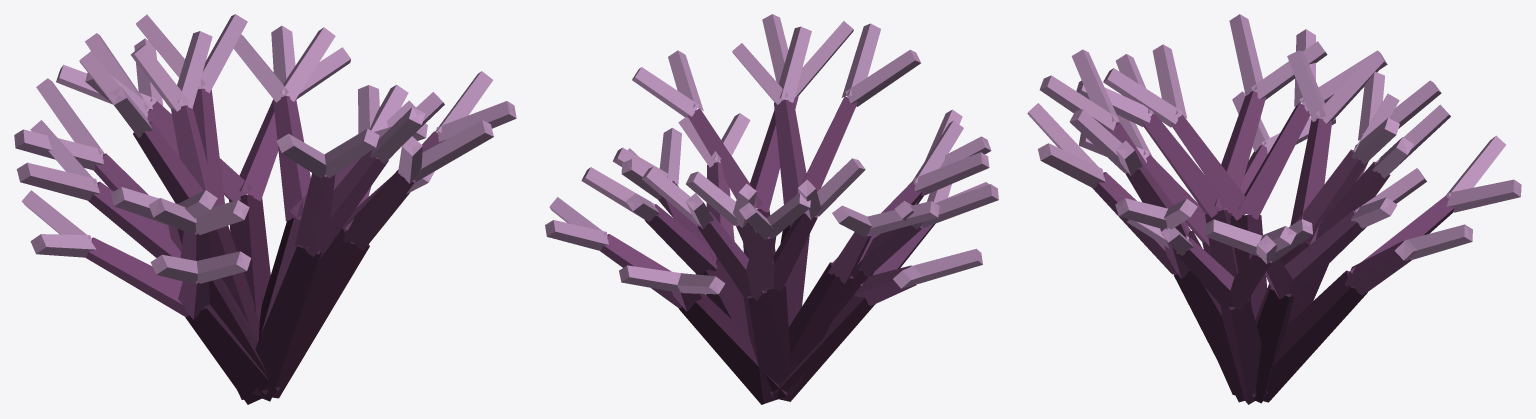
Rendered from bloom-coral.glb.
3 renders of one model, left to right at view 1: azimuth 30°, elevation 25°; view 2: azimuth 150°, elevation 25°; view 3: azimuth 270°, elevation 25°, orthographic. The views are drawn at different scales.
Parts seen in each view (by area): view 1: bloom-coral-b, bloom-coral-a, bloom-coral-c; view 2: bloom-coral-b, bloom-coral-a, bloom-coral-c; view 3: bloom-coral-b, bloom-coral-a, bloom-coral-c.
Part boxes in pixels (<box>): bloom-coral-b: <box>16,27,444,401</box>; bloom-coral-a: <box>14,25,516,399</box>; bloom-coral-c: <box>21,14,434,404</box>; bloom-coral-b: <box>581,23,998,401</box>; bloom-coral-a: <box>545,14,989,404</box>; bloom-coral-c: <box>621,113,989,403</box>; bloom-coral-b: <box>1039,14,1426,403</box>; bloom-coral-a: <box>1027,29,1521,402</box>; bloom-coral-c: <box>1079,72,1450,404</box>.
Bounding box in the file's own units: 0.5935 × 0.4476 × 0.6183.
